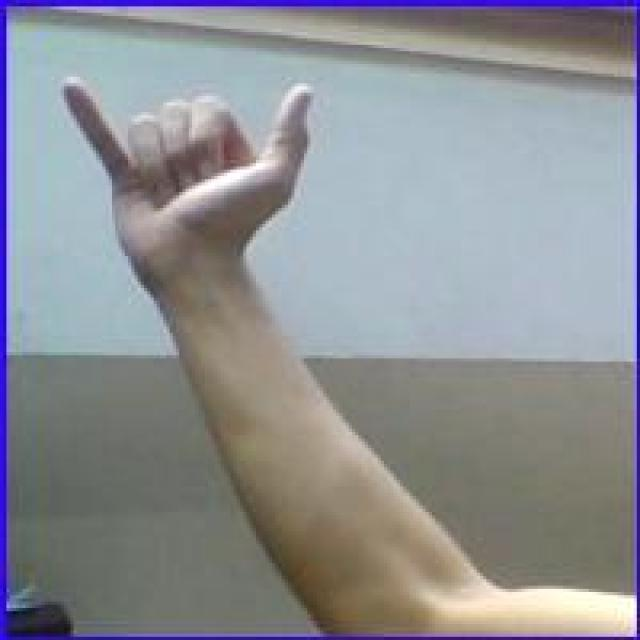Y: (58, 67, 323, 275)
